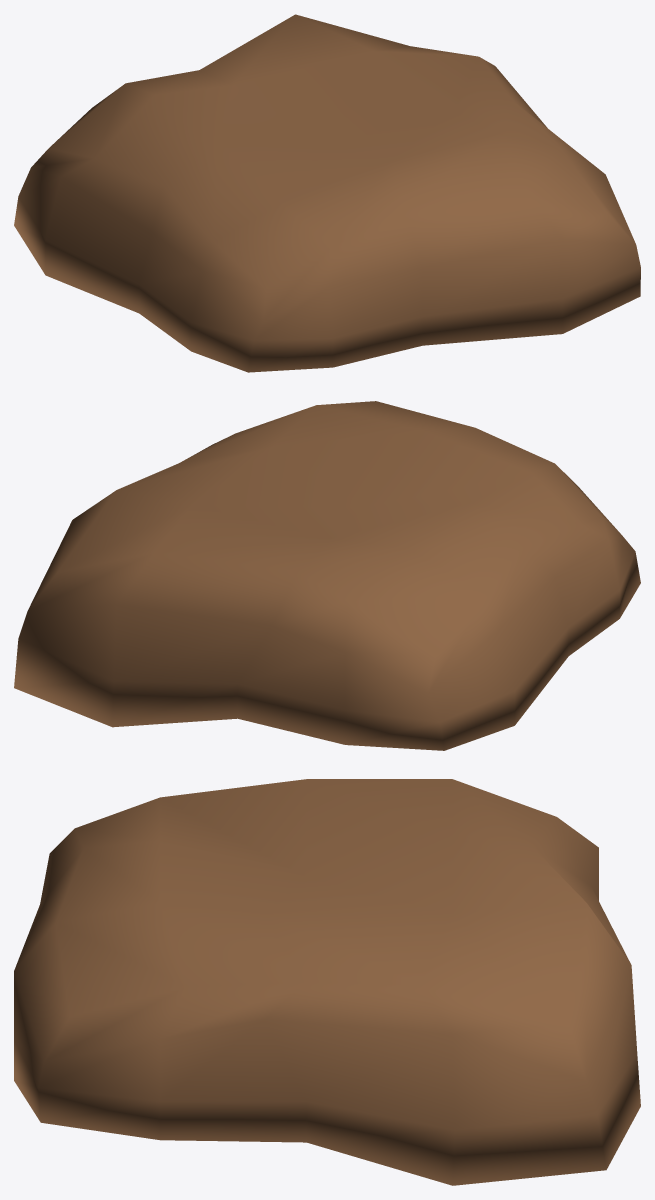
File: Dirt_Dry_V2.fbx
3 renders of one model, top to bottom at view 1: azimuth 30°, elevation 25°; view 2: azimuth 150°, elevation 25°; view 3: azimuth 270°, elevation 25°, orthographic. The views are drawn at different scales.
Visible parts, largest first — view 1: Dirt_Dry; view 2: Dirt_Dry; view 3: Dirt_Dry.
Boxes of the visible parts, x1,y1,x2,y2 form: Dirt_Dry: (14,14,640,372); Dirt_Dry: (14,401,640,750); Dirt_Dry: (14,779,640,1185).
Bounding box in the file's own units: 93.94 × 33.95 × 93.94.
1 material, 1 textured.
